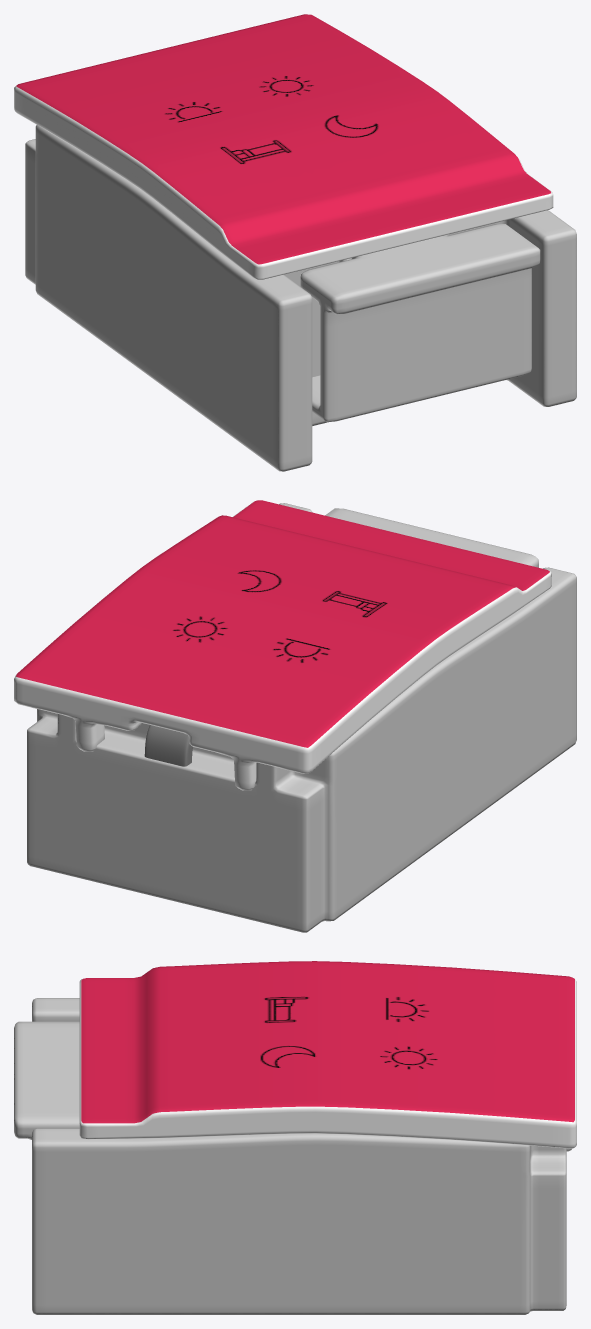
The picture shows the model from 3 angles, top to bottom: view 1: azimuth 30°, elevation 25°; view 2: azimuth 150°, elevation 25°; view 3: azimuth 270°, elevation 25°; orthographic projection.
Visible parts, largest first — view 1: body, lid; view 2: body, lid, hinge; view 3: body, lid.
Boxes of the visible parts, <box> form: body: <box>25,124,576,471</box>; lid: <box>14,14,553,279</box>; body: <box>27,503,576,932</box>; lid: <box>14,500,551,790</box>; hinge: <box>144,725,192,766</box>; body: <box>14,998,566,1314</box>; lid: <box>79,961,576,1151</box>.
Bounding box in the file's own units: 3.65 × 2.43 × 5.9.
3 materials, 1 textured.
